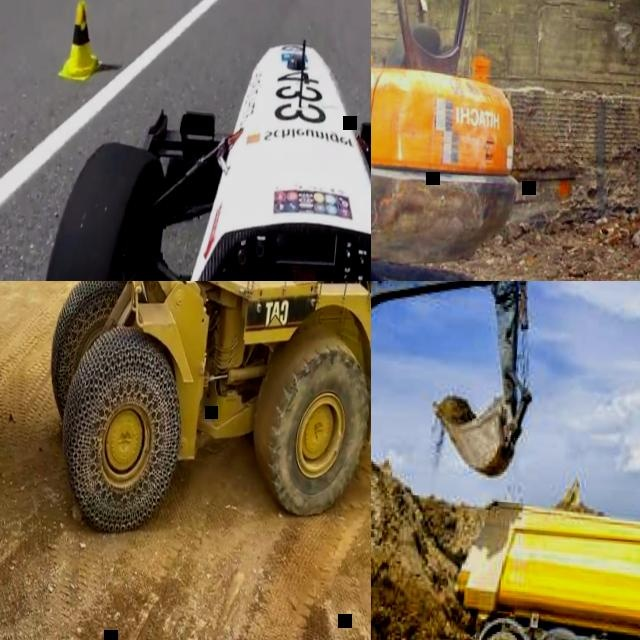Safety Cone: (55, 0, 104, 85)
machinery: (0, 281, 371, 558), (371, 0, 534, 281), (371, 281, 544, 490), (442, 499, 640, 640)
vehicle: (41, 18, 371, 281)
